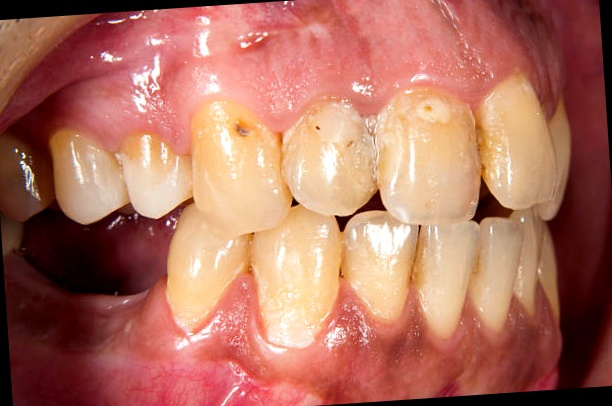Gingivitis: (327, 300, 432, 400), (463, 296, 564, 392), (202, 270, 277, 375)
